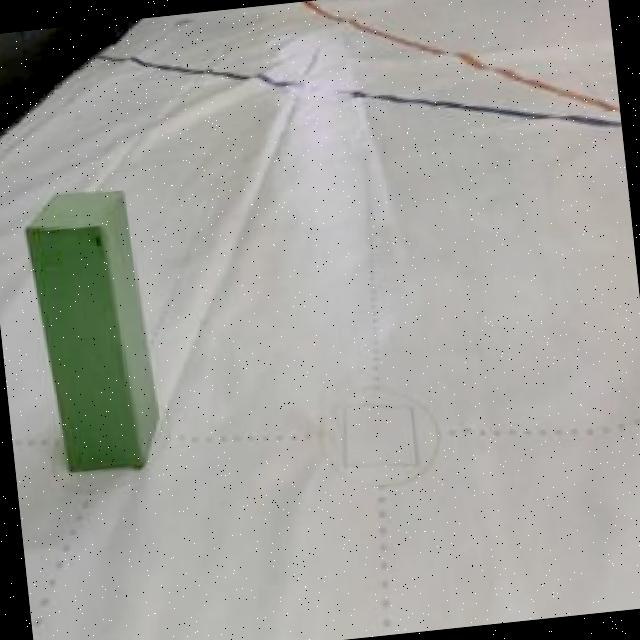greenbox: (19, 183, 168, 474)
